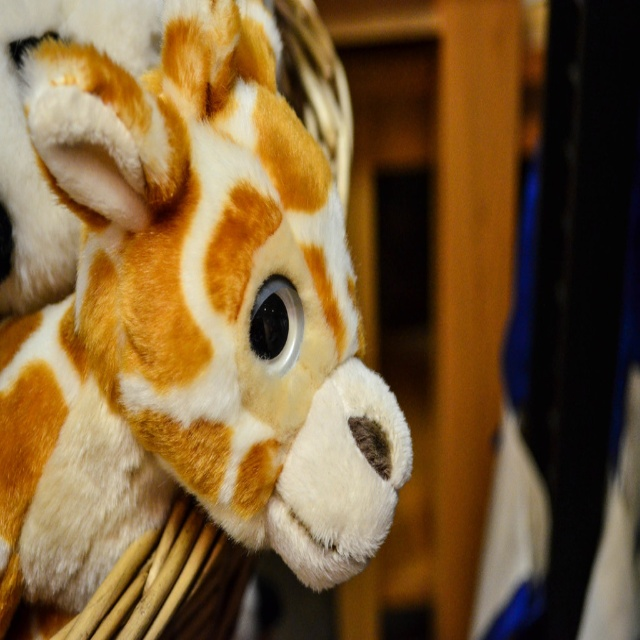Giraffe: (6, 0, 412, 639)
